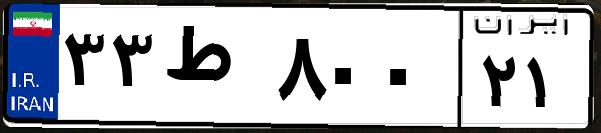0: (385, 28, 445, 110), (330, 28, 385, 110)
1: (525, 38, 570, 115)
2: (475, 38, 525, 113)
3: (57, 26, 110, 100), (110, 28, 158, 98)
8: (270, 28, 330, 110)
ط: (158, 20, 270, 120)
